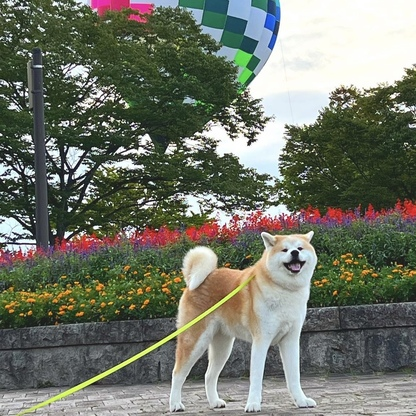akita: (164, 228, 322, 416)
